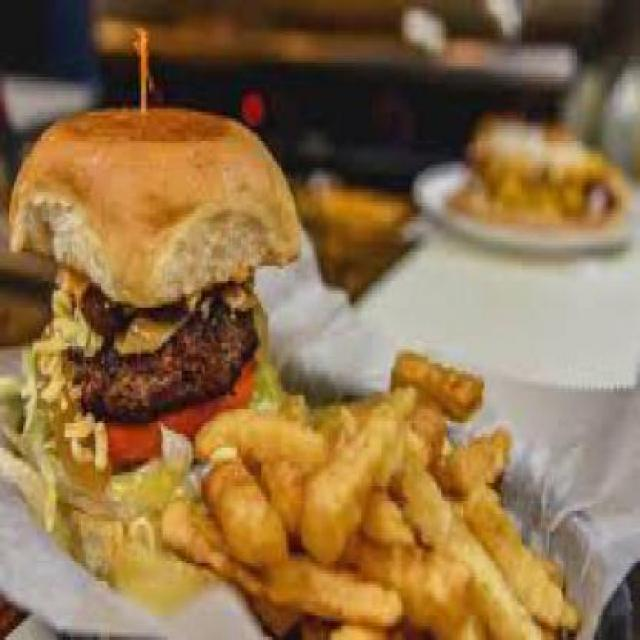french fries: (216, 346, 579, 637)
hamburger: (7, 84, 293, 545)
